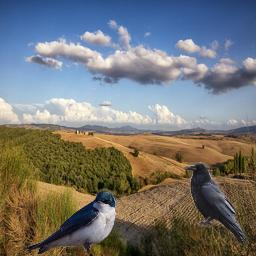Crow: (185, 162, 249, 246)
Swallow: (25, 190, 117, 254)
